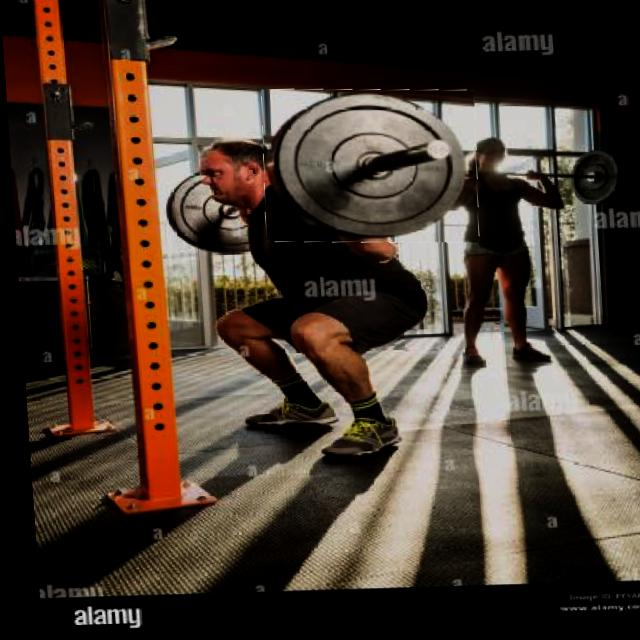barbell: (258, 89, 481, 250)
